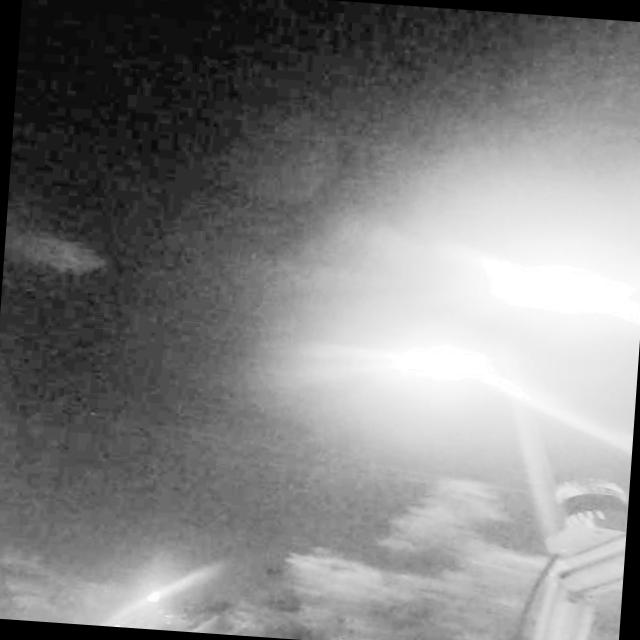Light: (503, 251, 618, 326), (379, 334, 494, 394)
